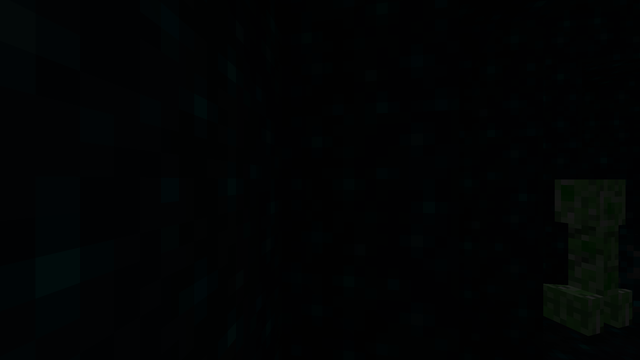creepers: (549, 172, 639, 335)
